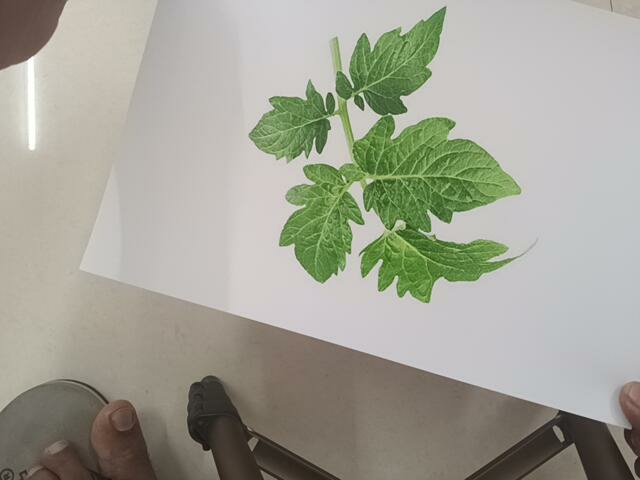Tomamto_Leaf_Healthy: (248, 3, 537, 313)
